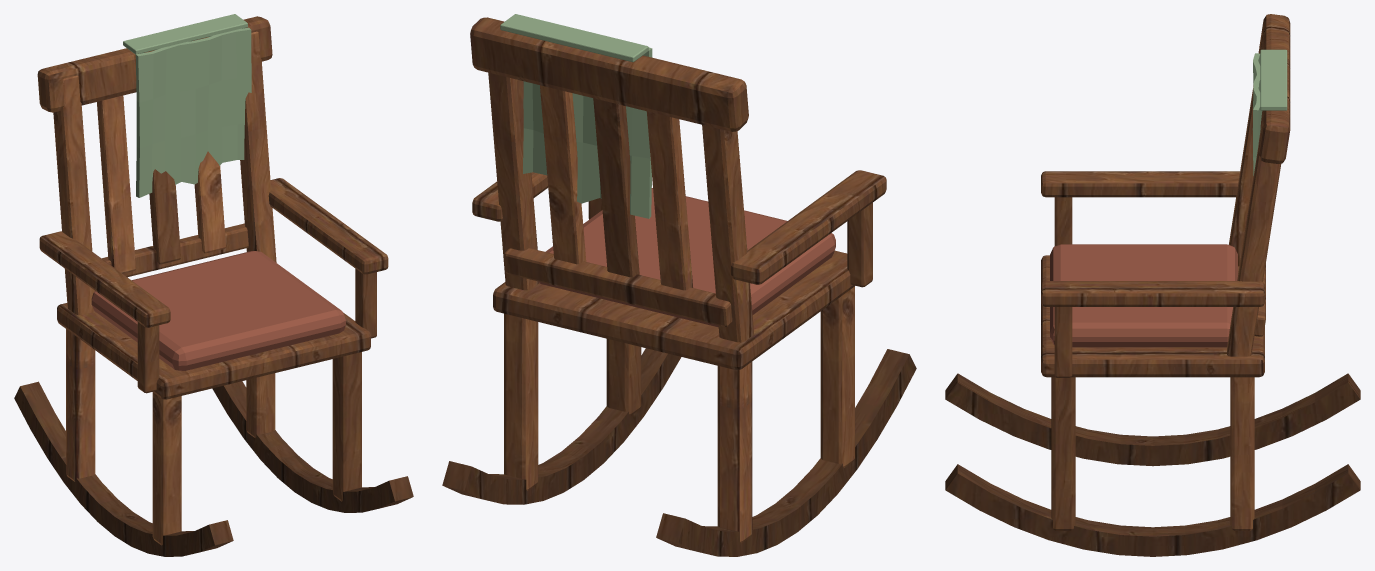
File: rocking_chair.glb
3 views of the same model, side by side, from view 1: azimuth 30°, elevation 25°; view 2: azimuth 150°, elevation 25°; view 3: azimuth 270°, elevation 25° (orthographic). The views are drawn at different scales.
Parts seen in each view (by area): view 1: model; view 2: model; view 3: model.
Part boxes in pixels (x1,y1,x2,y2): model: (14, 14, 413, 556); model: (442, 14, 916, 556); model: (945, 14, 1360, 556).
Bounding box in the file's own units: 0.6508 × 1.1 × 0.9273.
6 materials, 4 textured.
